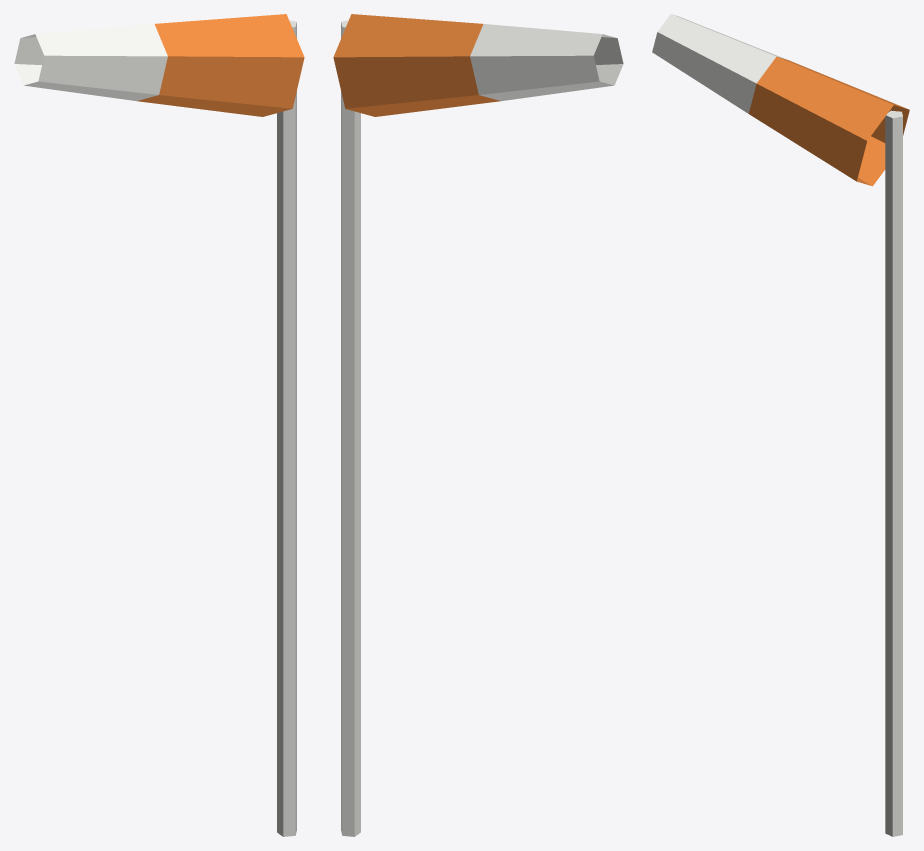
File: windsock.glb
3 views of the same model, side by side, from view 1: azimuth 30°, elevation 25°; view 2: azimuth 150°, elevation 25°; view 3: azimuth 330°, elevation 25° (orthographic). The views are drawn at different scales.
Visible parts, largest first — view 1: windsock; view 2: windsock; view 3: windsock.
Part boxes in pixels (box(x1,y1,x2,y2)): windsock: box(14, 14, 304, 836); windsock: box(333, 14, 623, 836); windsock: box(652, 14, 909, 836).
Bounding box in the file's own units: 2.05 × 6.17 × 0.6235.
